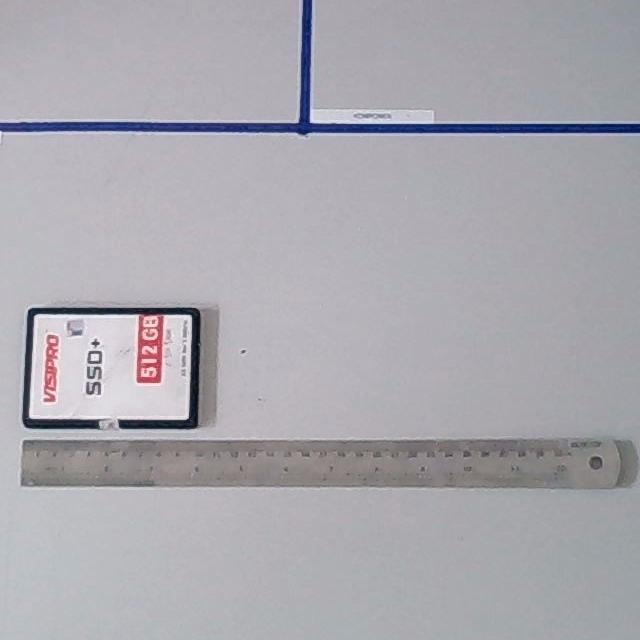ruler: (20, 440, 622, 490)
ssd: (20, 307, 200, 430)
